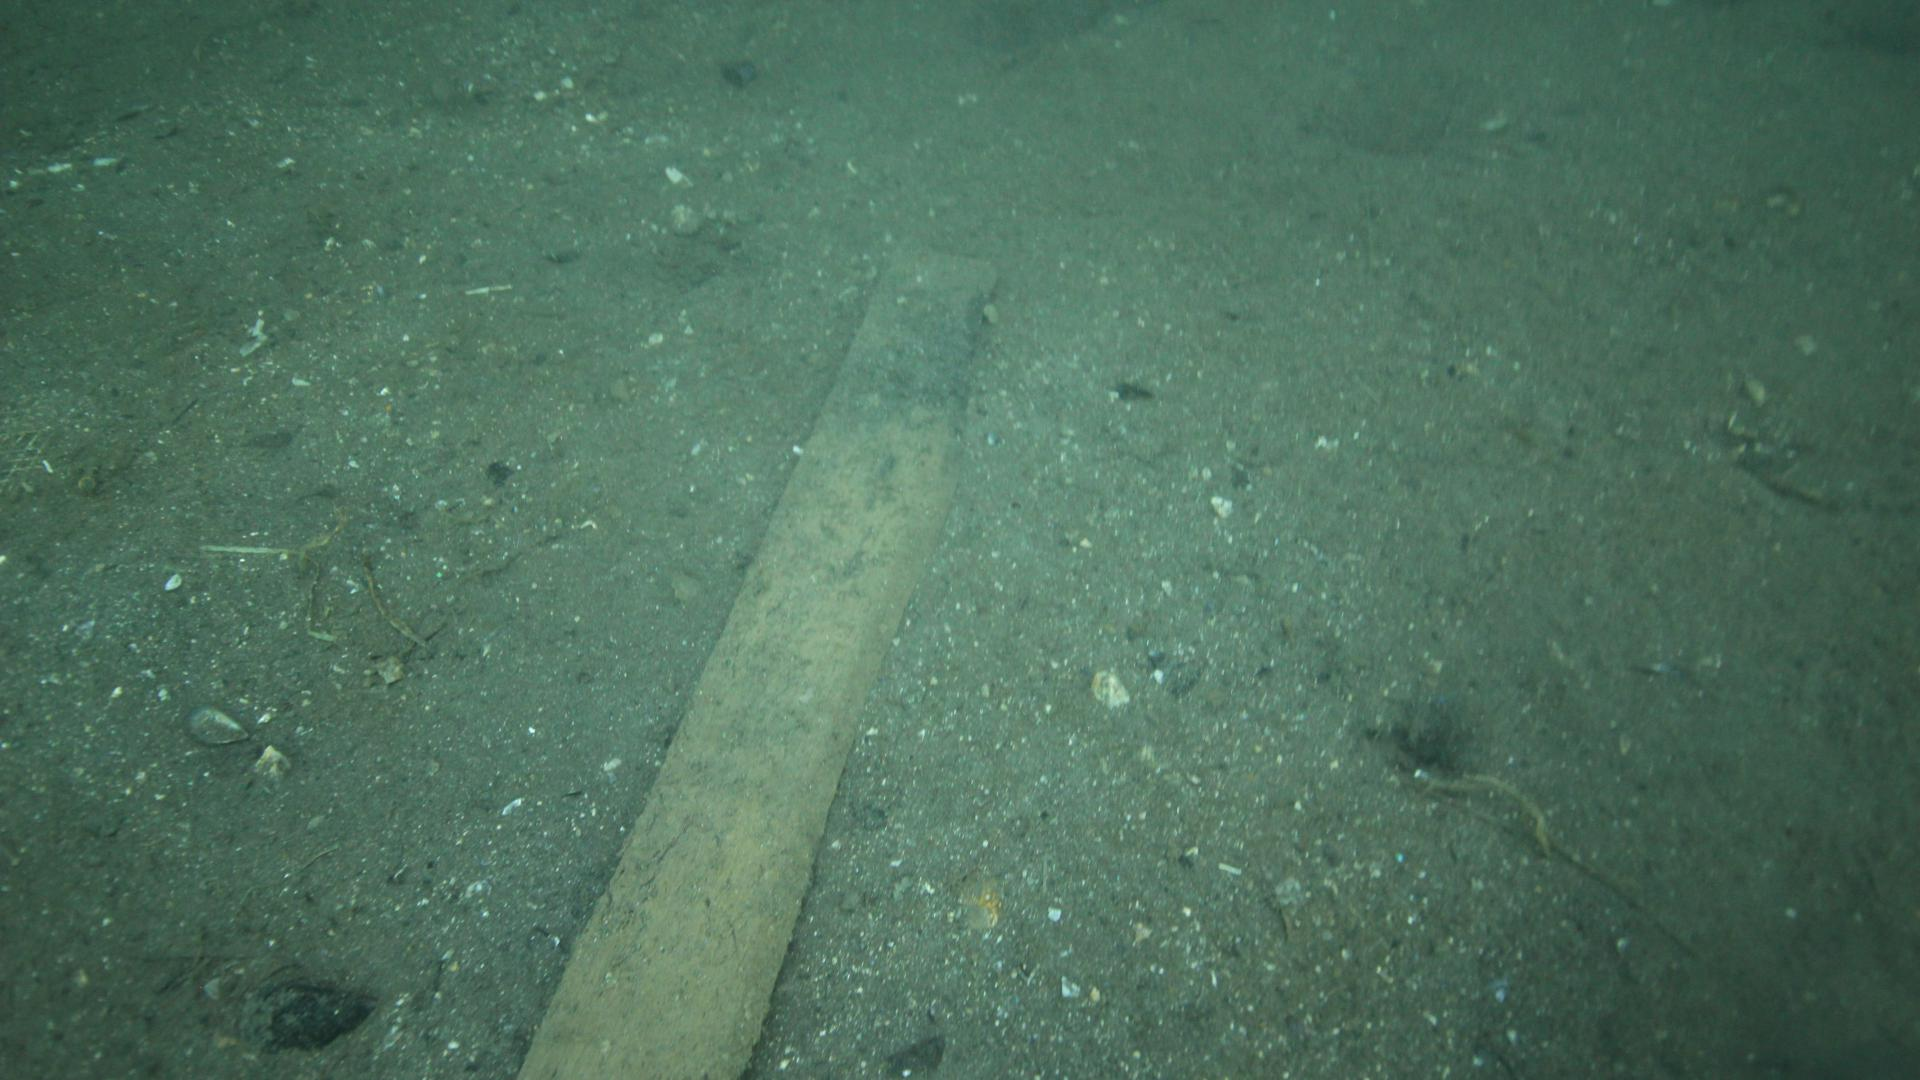wood: (513, 235, 993, 1080)
